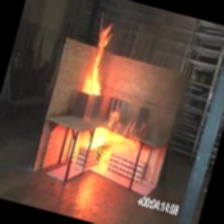fire: (62, 15, 132, 116), (69, 98, 154, 181)
